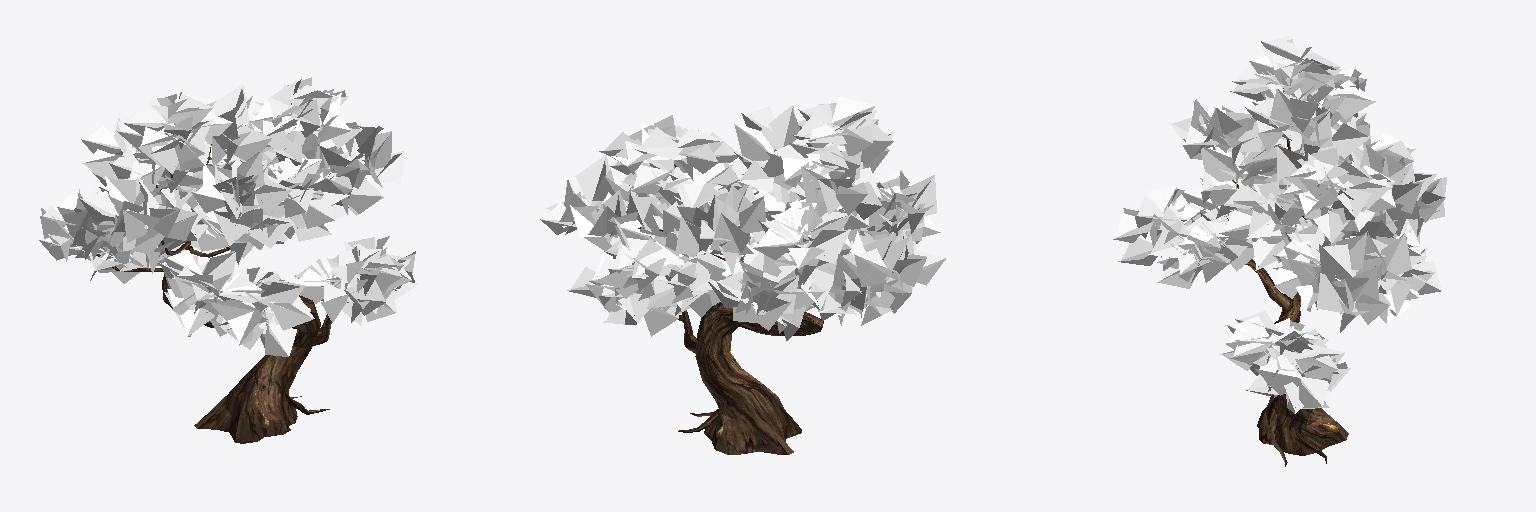
3 views of the same model, side by side, from view 1: azimuth 30°, elevation 25°; view 2: azimuth 150°, elevation 25°; view 3: azimuth 270°, elevation 25° (orthographic).
Parts seen in each view (by area): view 1: Tree_mesh; view 2: Tree_mesh; view 3: Tree_mesh.
Boxes of the visible parts, <box> form: Tree_mesh: <box>39,77,418,443</box>; Tree_mesh: <box>540,97,945,454</box>; Tree_mesh: <box>1113,36,1446,466</box>.
Bounding box in the file's own units: 5.19 × 4.63 × 4.01.
Materials: 2 (1 with a texture image).